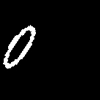chain: (3, 25, 35, 67)
